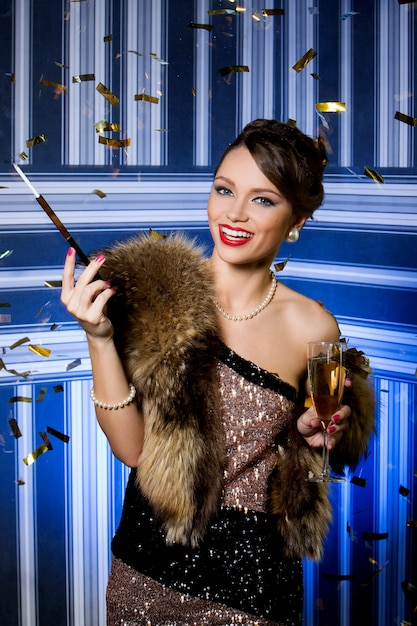alcohol: (303, 340, 344, 483)
cigarette: (12, 161, 42, 199)
